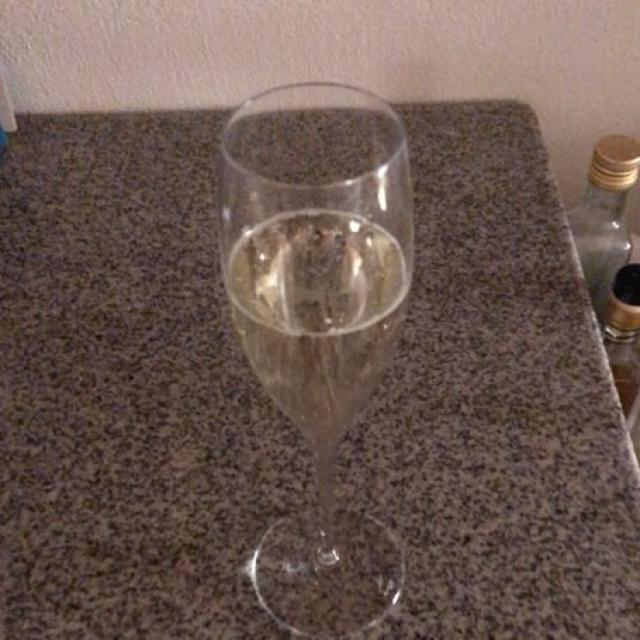prosecco: (234, 197, 399, 459)
